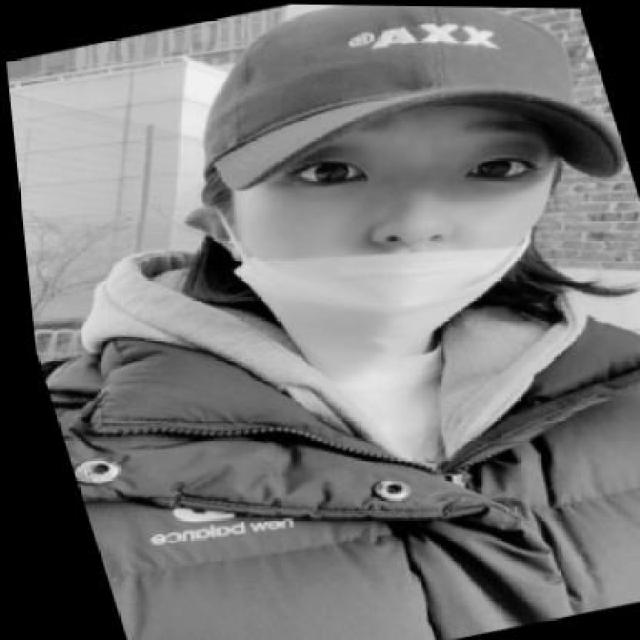hat: (155, 2, 634, 260)
